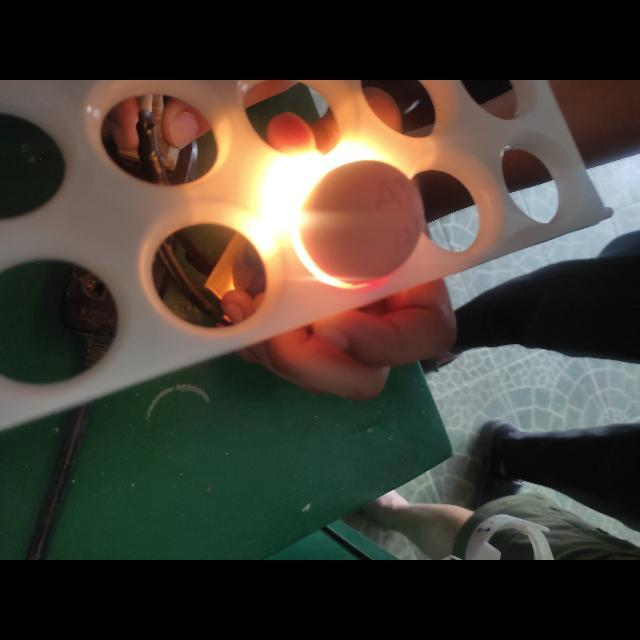Fertile: (302, 146, 431, 280)
